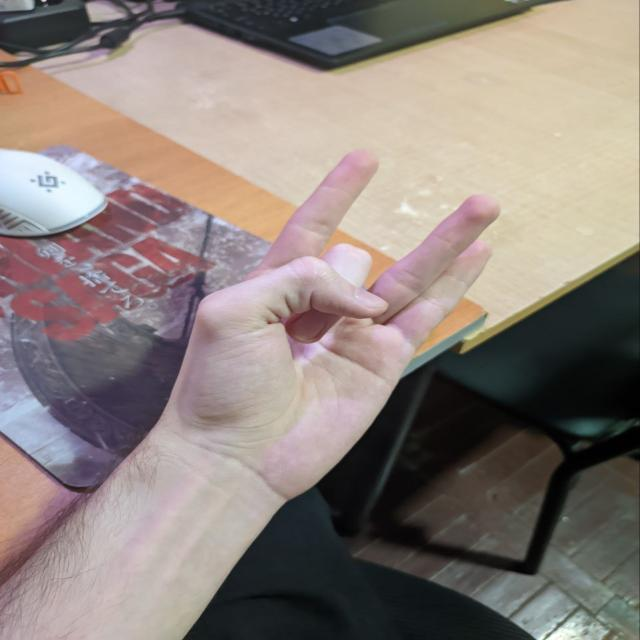r: (171, 127, 530, 480)
